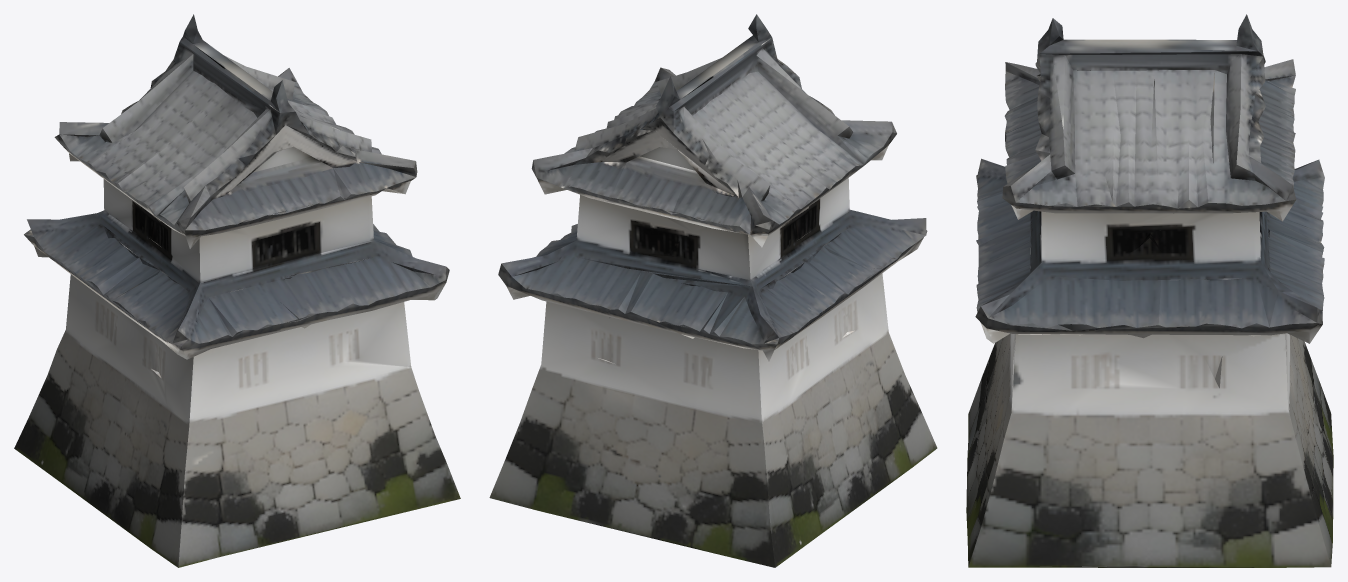
The model's file is corner_turret_lod2.glb.
The picture shows the model from 3 angles, left to right: view 1: azimuth 30°, elevation 25°; view 2: azimuth 150°, elevation 25°; view 3: azimuth 270°, elevation 25°; orthographic projection. The views are drawn at different scales.
Visible parts, largest first — view 1: corner_turret_lod2; view 2: corner_turret_lod2; view 3: corner_turret_lod2.
Boxes of the visible parts, x1=… form: corner_turret_lod2: x1=14, y1=14, x2=460, y2=567; corner_turret_lod2: x1=489, y1=14, x2=937, y2=567; corner_turret_lod2: x1=966, y1=14, x2=1333, y2=567.
Bounding box in the file's own units: 7.48 × 10.7 × 7.47.
Materials: 1 (1 with a texture image).
